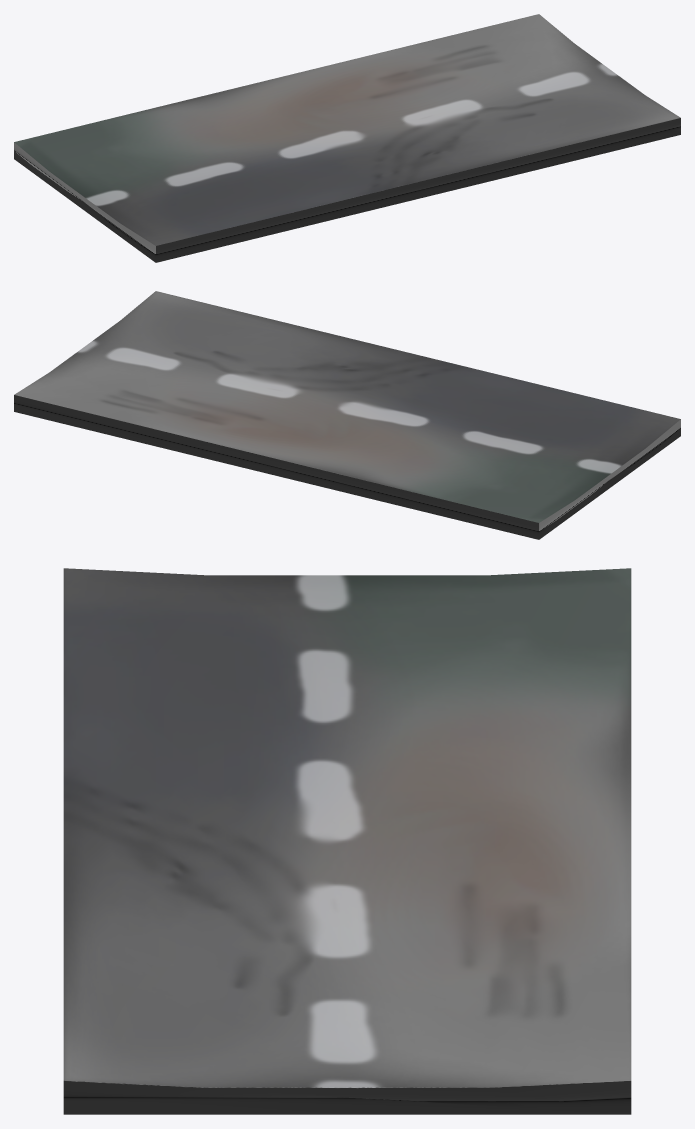
The model's file is road.fbx.
3 renders of one model, top to bottom at view 1: azimuth 30°, elevation 25°; view 2: azimuth 150°, elevation 25°; view 3: azimuth 270°, elevation 25°, orthographic. The views are drawn at different scales.
Parts seen in each view (by area): view 1: Cube; view 2: Cube; view 3: Cube.
Boxes of the visible parts, x1,y1,x2,y2 form: Cube: (14,14,680,262); Cube: (14,291,680,539); Cube: (63,568,631,1114).
Bounding box in the file's own units: 2180 × 67.34 × 1020.
Materials: 1 (1 with a texture image).
